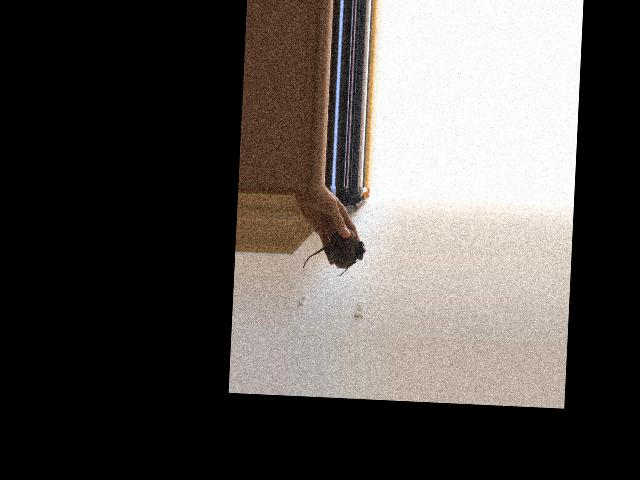beet: (302, 227, 366, 278)
